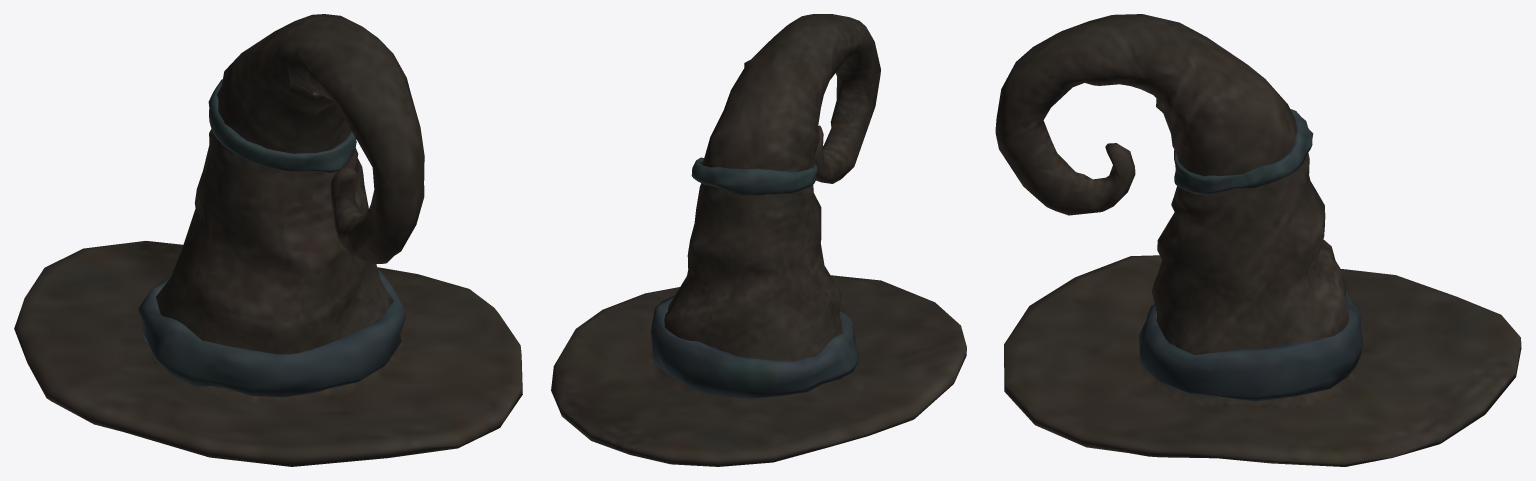
Rendered from wizardhat.glb.
3 renders of one model, left to right at view 1: azimuth 30°, elevation 25°; view 2: azimuth 150°, elevation 25°; view 3: azimuth 270°, elevation 25°, orthographic. The views are drawn at different scales.
Parts seen in each view (by area): view 1: defaultMaterial (×3); view 2: defaultMaterial (×3); view 3: defaultMaterial (×3).
Part boxes in pixels (bbox=[...]): defaultMaterial (×3): bbox=[14, 14, 522, 466]; defaultMaterial (×3): bbox=[551, 14, 966, 466]; defaultMaterial (×3): bbox=[995, 14, 1521, 466].
Bounding box in the file's own units: 1.72 × 1.54 × 2.
Materials: 1 (1 with a texture image).
